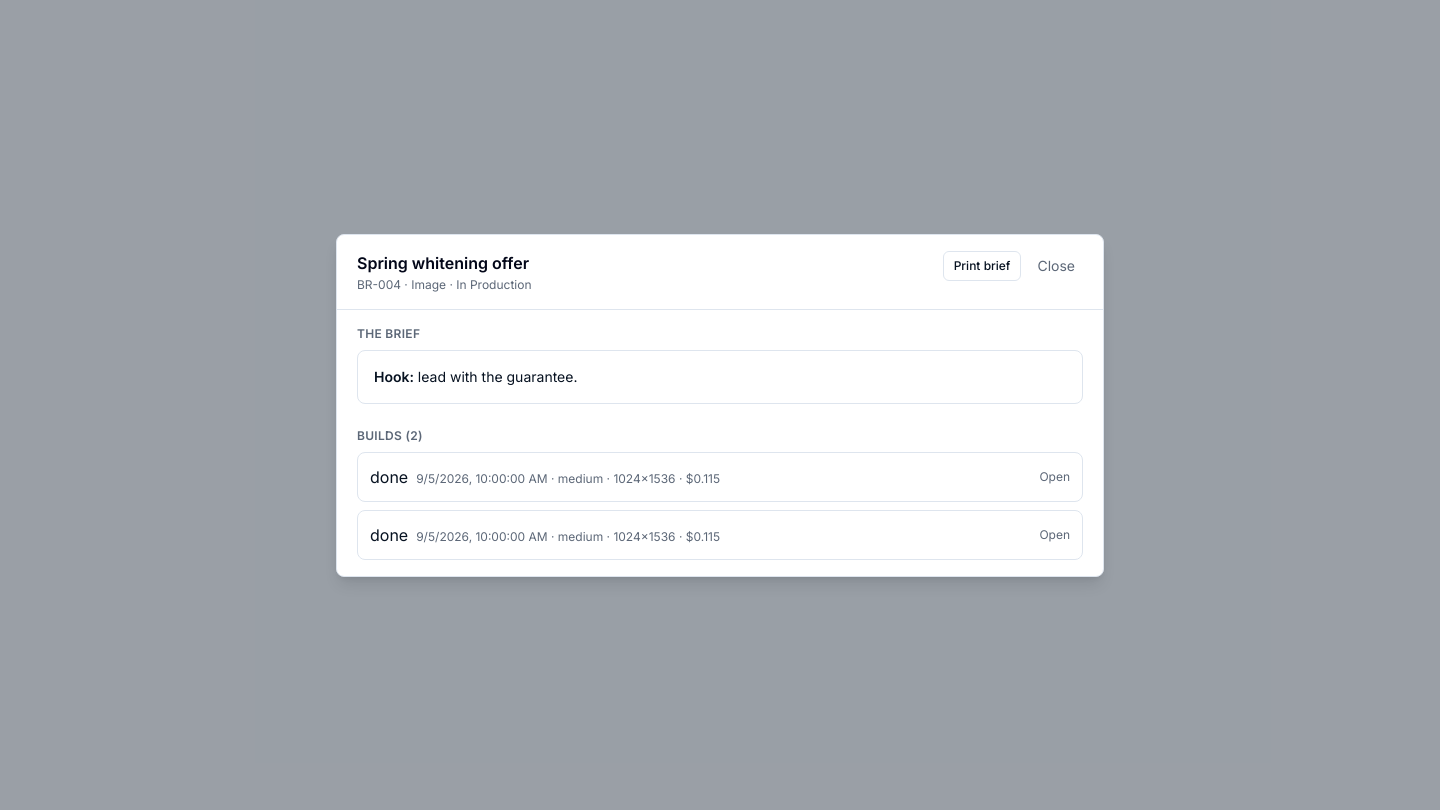
Test case: BriefDetailModal — build history › opens one build at a time
This screenshot has width=1440, height=810.
Expected: the heading "Builds (2)" is shown, x1=357 y1=428 x2=423 y2=442
Click the 1st button "done9/5/2026, 10:00:00 AM · medium · 1024x1536 · $0.115 Open": (720, 476) x1=358 y1=452 x2=1082 y2=500
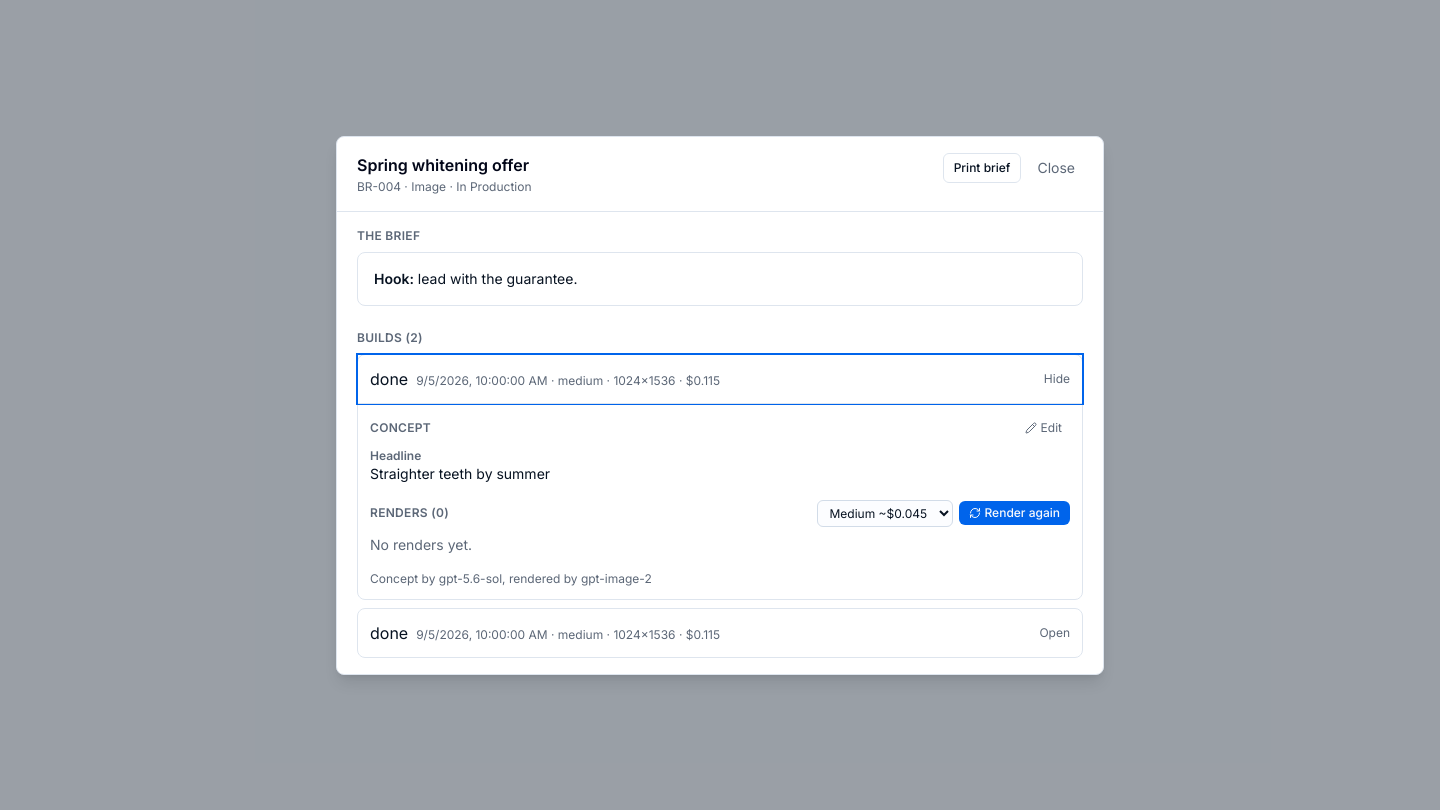
Expected: the text "Straighter teeth by summer" is shown, x1=370 y1=464 x2=550 y2=482
Click the button "done9/5/2026, 10:00:00 AM · medium · 1024x1536 · $0.115 Open": (720, 632) x1=358 y1=608 x2=1082 y2=656
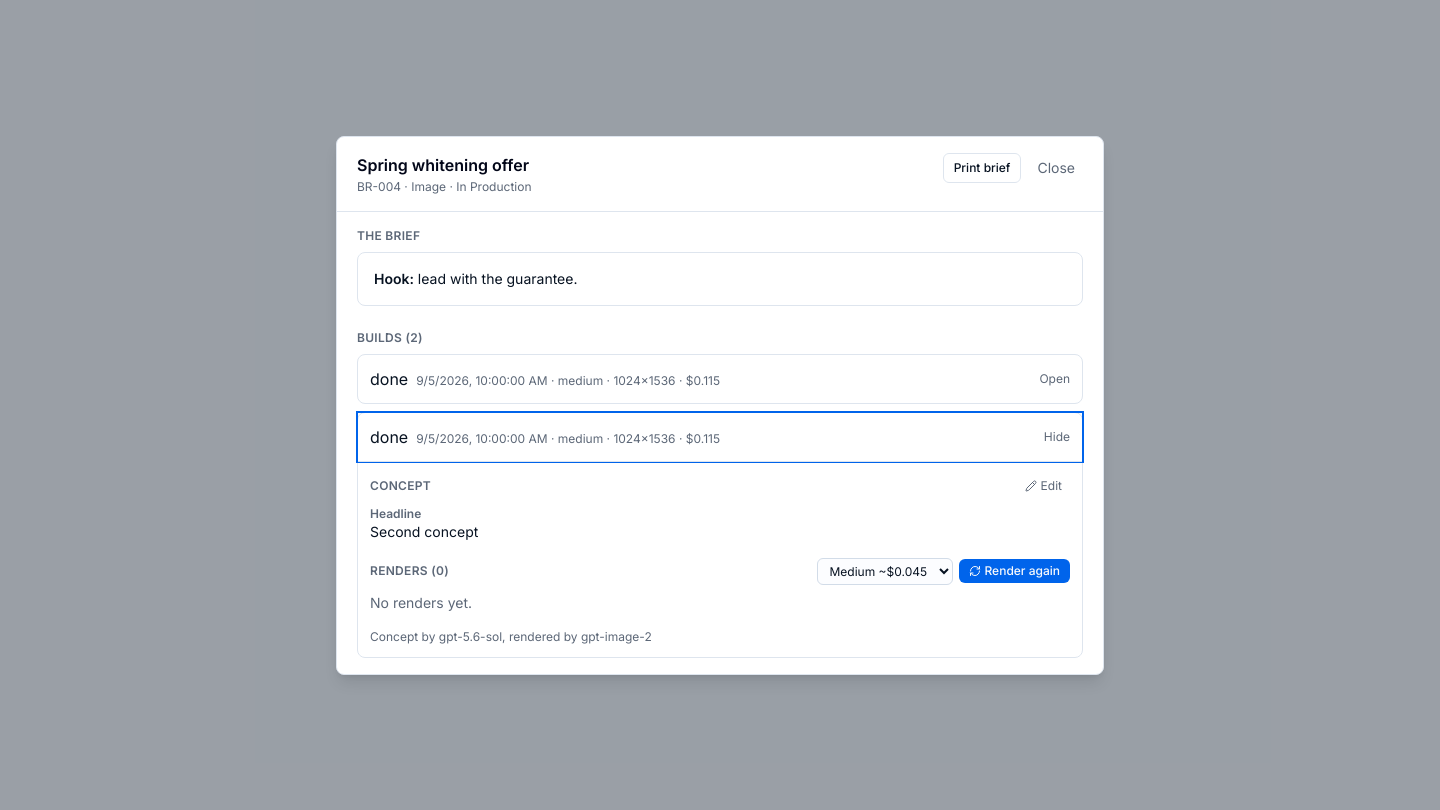
Expected: the text "Second concept" is shown, x1=370 y1=522 x2=478 y2=540
Expected: the text "Straighter teeth by summer" is gone
